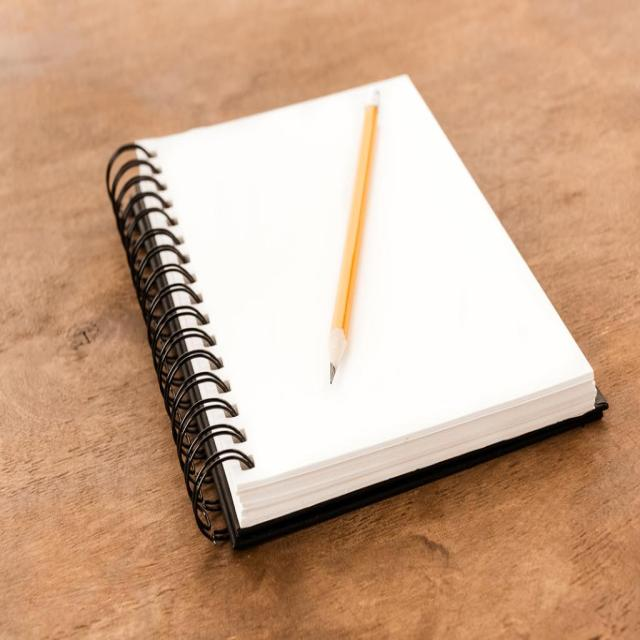pencil: (320, 78, 389, 404)
